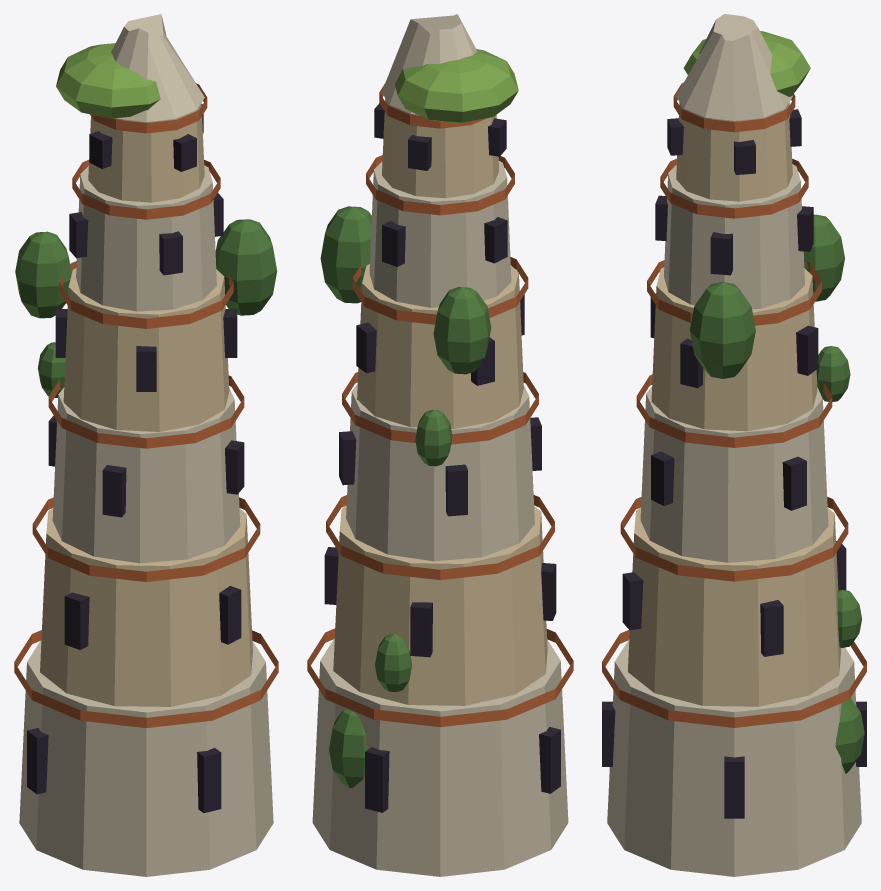
Rendered from ruin_tower.glb.
The picture shows the model from 3 angles, left to right: view 1: azimuth 30°, elevation 25°; view 2: azimuth 150°, elevation 25°; view 3: azimuth 270°, elevation 25°; orthographic projection.
Visible parts, largest first — view 1: ruin_tower; view 2: ruin_tower; view 3: ruin_tower.
Boxes of the visible parts, x1,y1,x2,y2 form: ruin_tower: (14,14,278,876); ruin_tower: (307,14,573,876); ruin_tower: (602,14,866,876).
Bounding box in the file's own units: 21.45 × 69.6 × 20.8.
